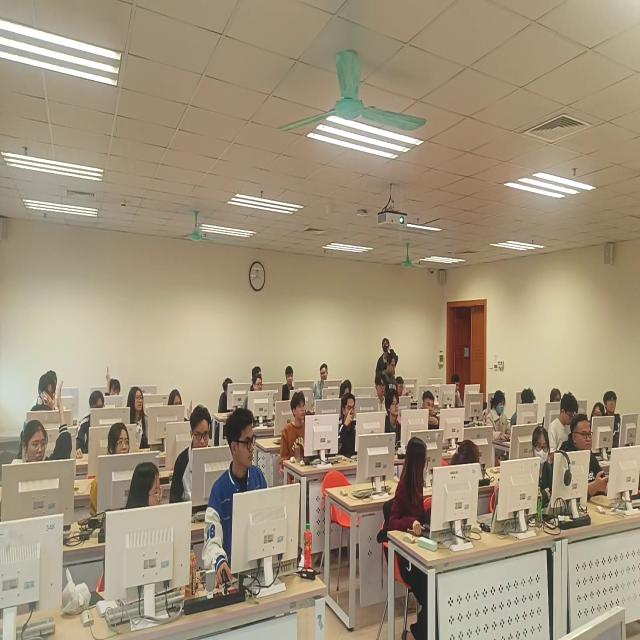raise_hand: (21, 380, 73, 463), (28, 375, 57, 413), (167, 388, 195, 423), (106, 366, 122, 398)
raise_head: (558, 414, 610, 505), (170, 405, 211, 505), (531, 427, 556, 514), (281, 391, 306, 464), (127, 387, 152, 450), (339, 394, 358, 459), (385, 390, 403, 445), (604, 389, 622, 437), (108, 423, 131, 456), (243, 375, 264, 410), (375, 374, 388, 413), (283, 367, 296, 403)
stand: (376, 338, 400, 383), (383, 356, 399, 392)
using_computer: (77, 392, 106, 461), (550, 393, 581, 455), (487, 391, 512, 443), (511, 388, 537, 430), (421, 392, 441, 431), (543, 389, 563, 428), (451, 375, 464, 409), (339, 384, 351, 400)
using_phone: (396, 377, 410, 397)
